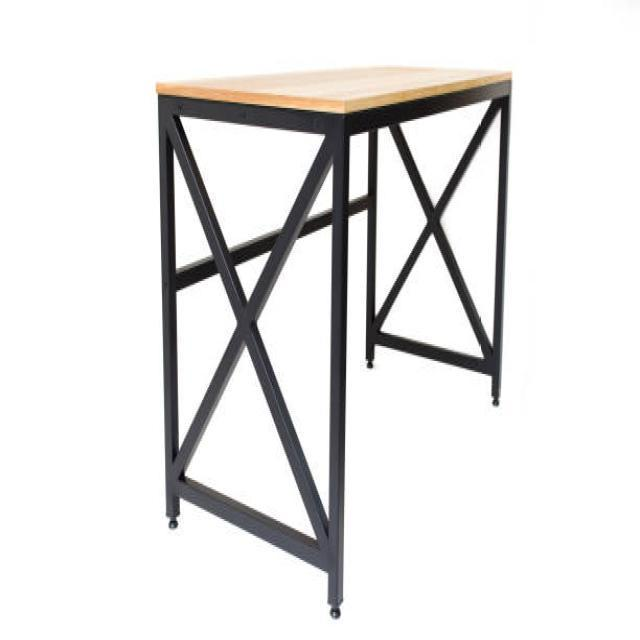table: (155, 63, 512, 618)
